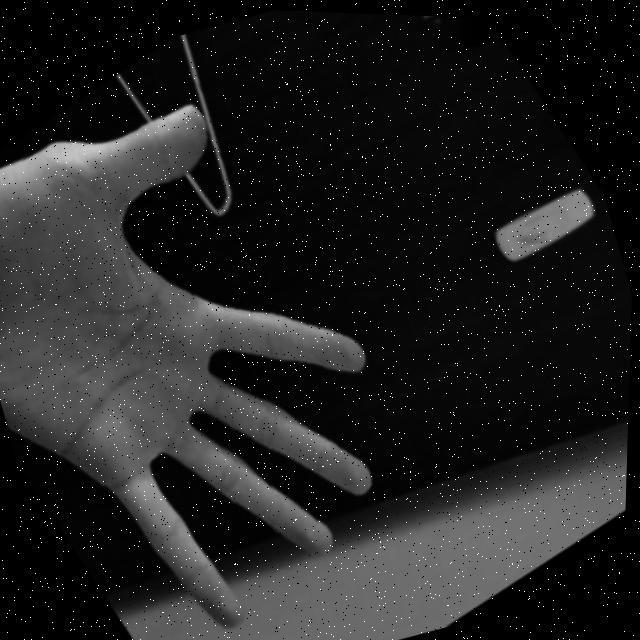no-gloves: (0, 33, 447, 640)
